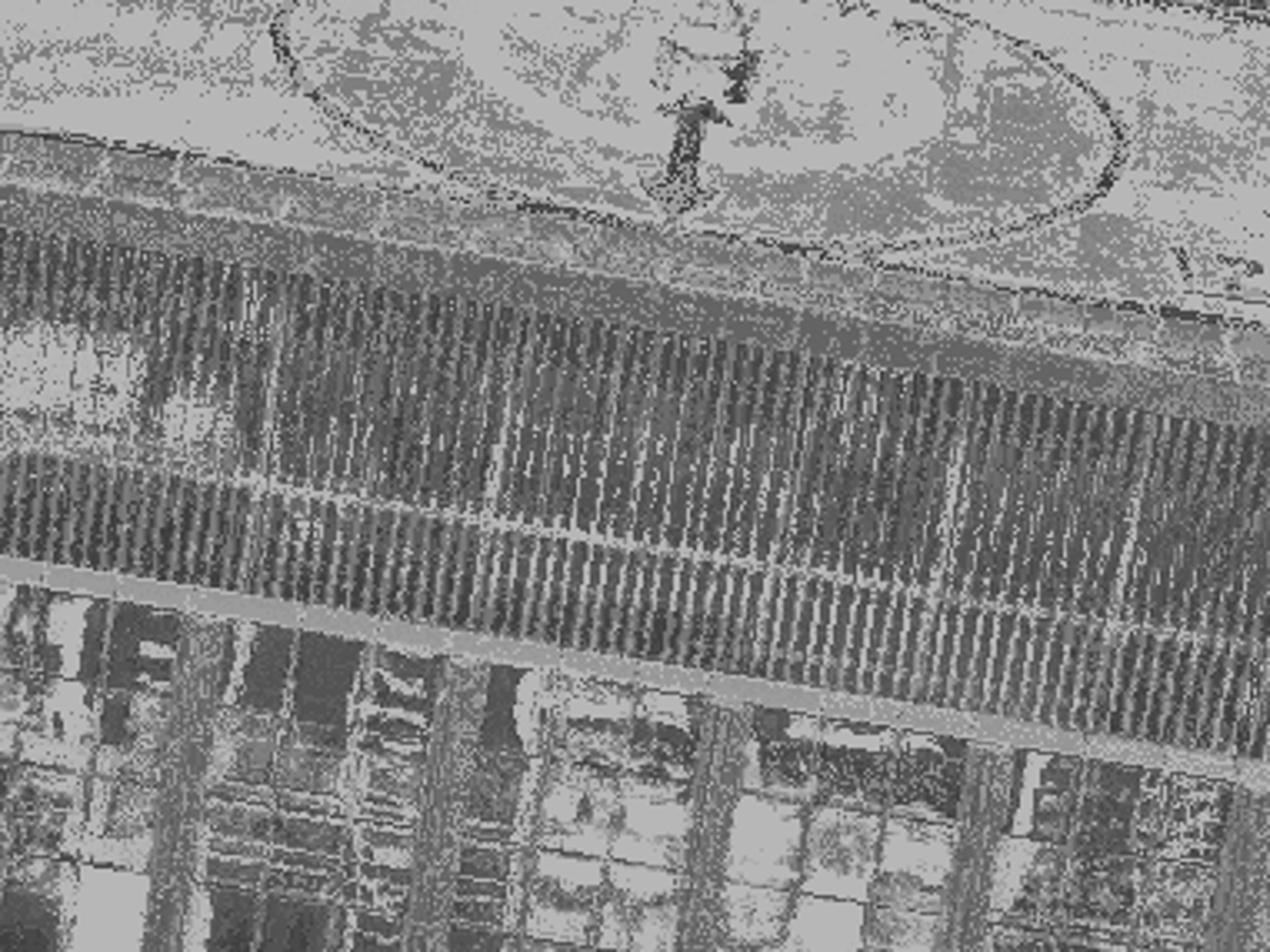Apron: (442, 2, 960, 175)
